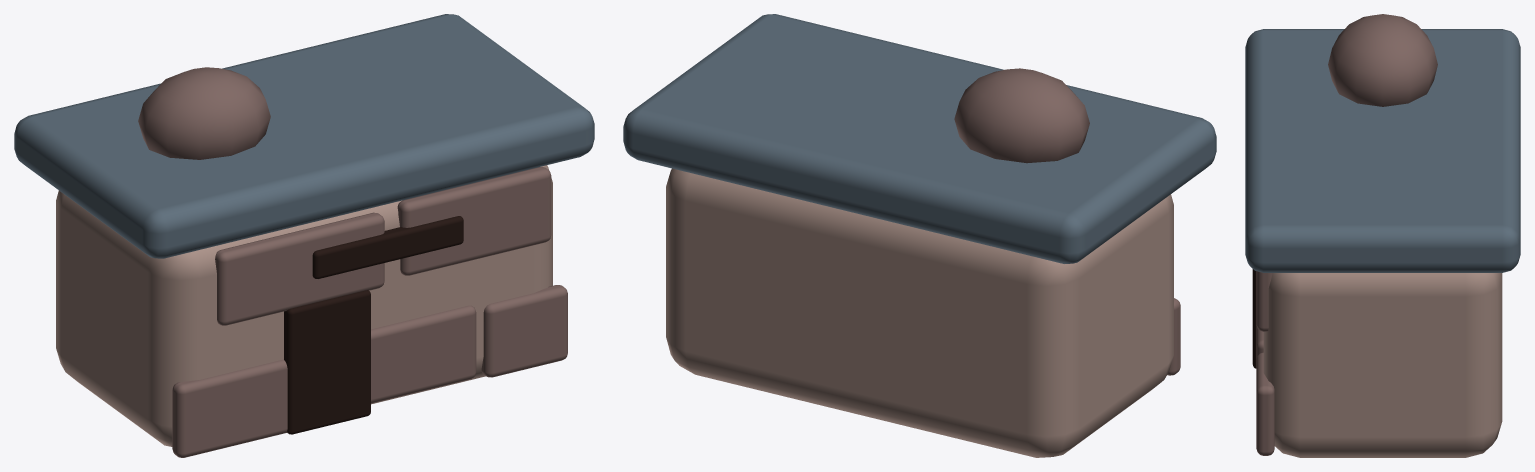
File: bunker.glb
3 views of the same model, side by side, from view 1: azimuth 30°, elevation 25°; view 2: azimuth 150°, elevation 25°; view 3: azimuth 270°, elevation 25° (orthographic). The views are drawn at different scales.
Visible parts, largest first — view 1: Bunker; view 2: Bunker; view 3: Bunker.
Part boxes in pixels (left/top/right/bottom): Bunker: left=14, top=14, right=594, bottom=457; Bunker: left=623, top=14, right=1216, bottom=457; Bunker: left=1245, top=14, right=1520, bottom=457.
Bounding box in the file's own units: 2.7 × 1.86 × 1.5.
